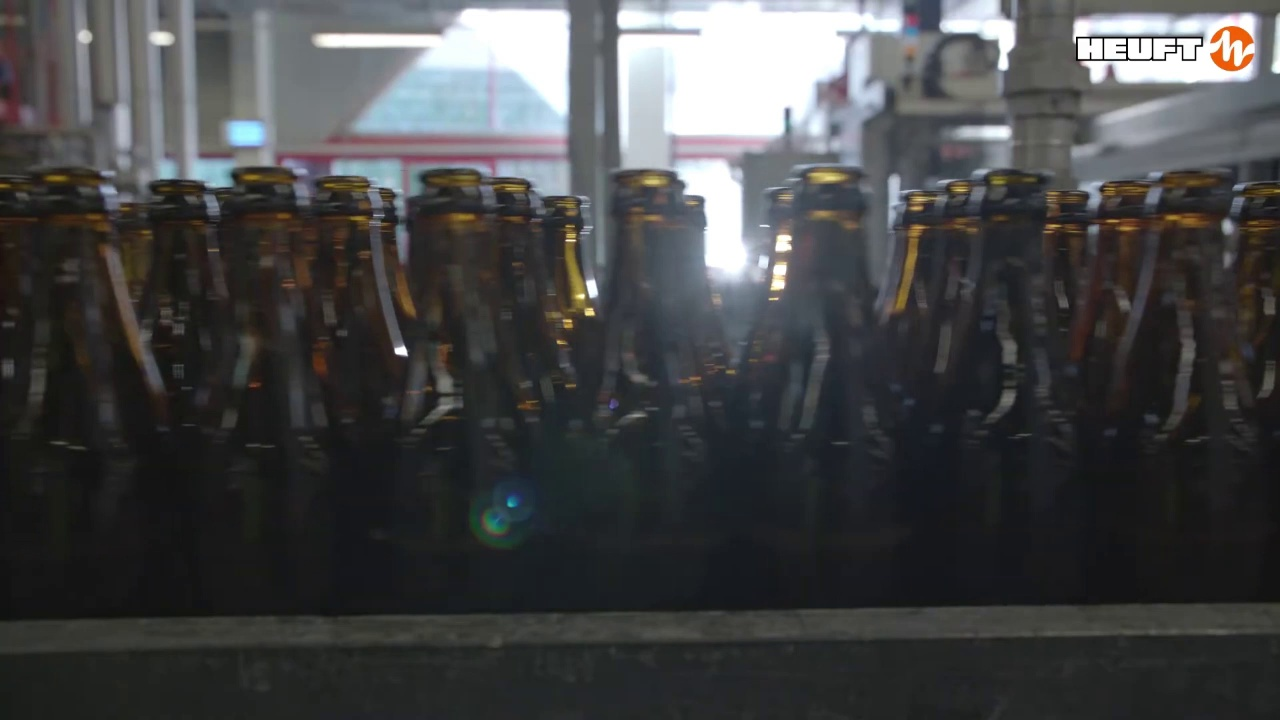bottle: (40, 171, 168, 432), (207, 167, 311, 428), (303, 175, 407, 430), (136, 180, 226, 416), (379, 188, 419, 355), (545, 197, 588, 324)
